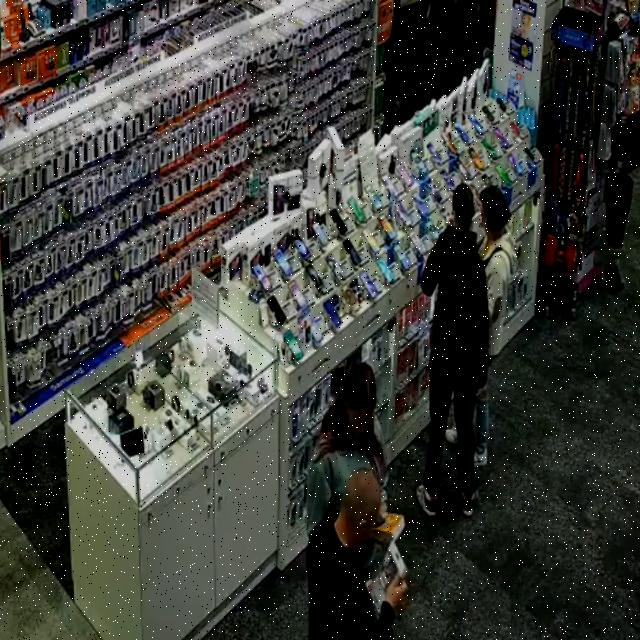article: (369, 540, 408, 615), (372, 510, 406, 544)
hands: (386, 575, 407, 611), (477, 384, 488, 401)
person: (417, 185, 488, 516), (307, 470, 407, 639), (307, 363, 387, 533), (479, 187, 517, 355)
